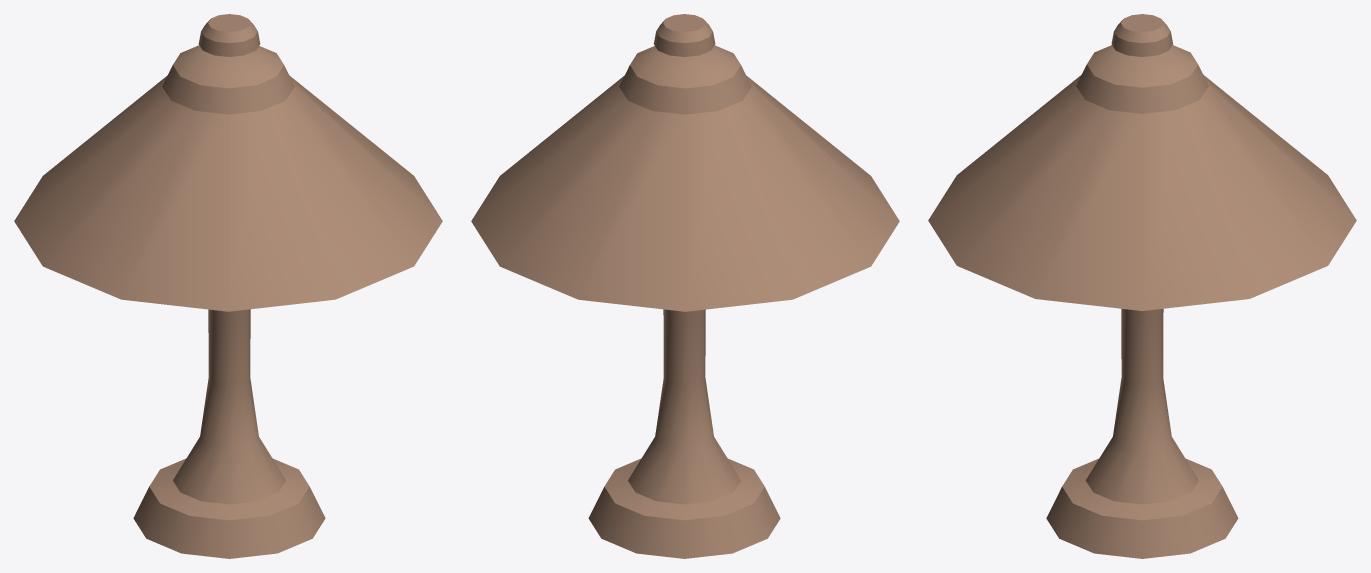
The model's file is SM_BedLamp.fbx.
The picture shows the model from 3 angles, left to right: view 1: azimuth 30°, elevation 25°; view 2: azimuth 150°, elevation 25°; view 3: azimuth 270°, elevation 25°; orthographic projection.
Parts seen in each view (by area): view 1: SM_BedLamp; view 2: SM_BedLamp; view 3: SM_BedLamp.
Part boxes in pixels (<box>): SM_BedLamp: <box>14,14,442,558</box>; SM_BedLamp: <box>471,14,899,558</box>; SM_BedLamp: <box>928,14,1356,558</box>.
Bounding box in the file's own units: 45.86 × 58.46 × 45.86.
